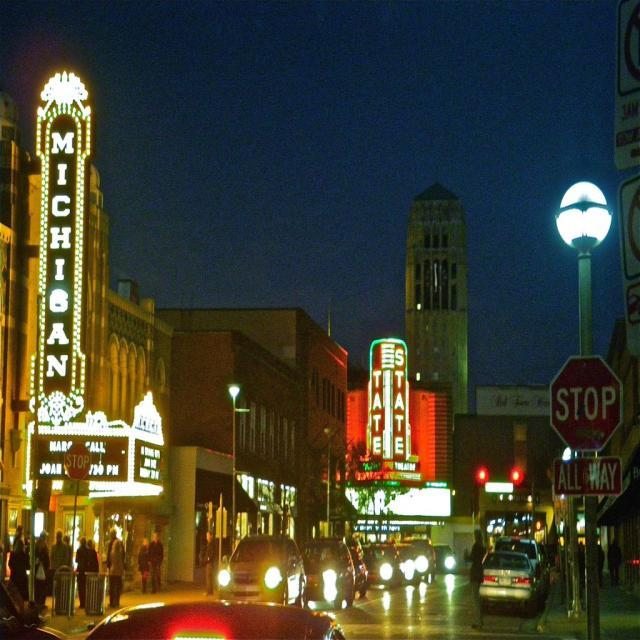road_sign: (550, 356, 622, 450), (64, 444, 91, 480)
